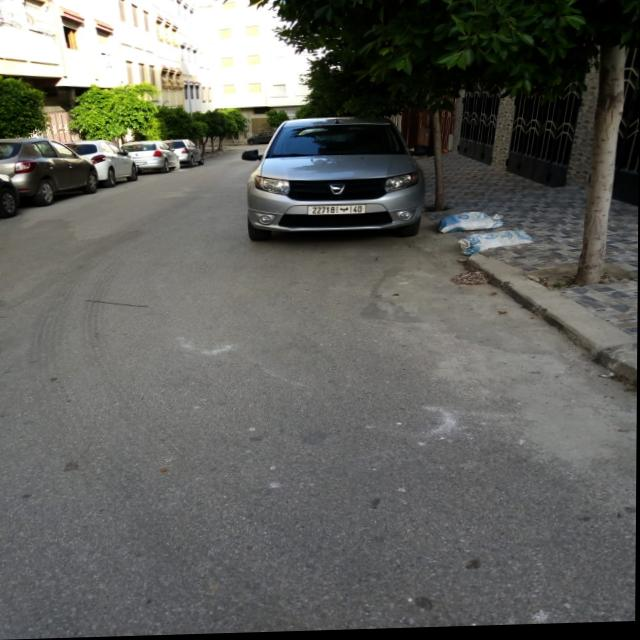License-Plate: (309, 207, 366, 217)
